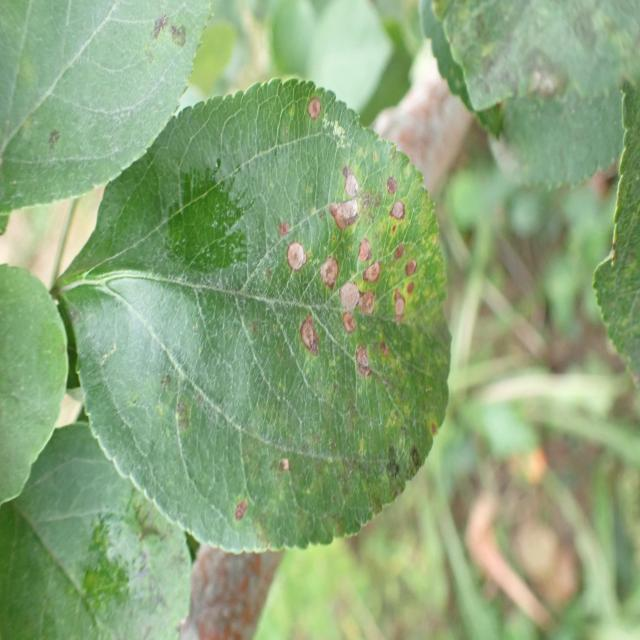frog-eye-leaf-spot: (58, 76, 452, 555)
